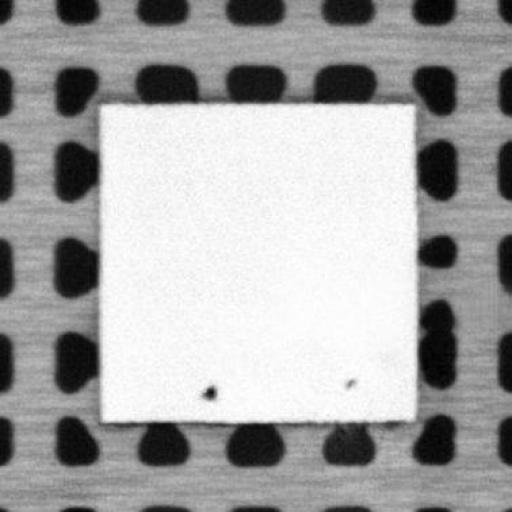DIE_INK: (199, 381, 218, 401), (341, 374, 358, 390)
